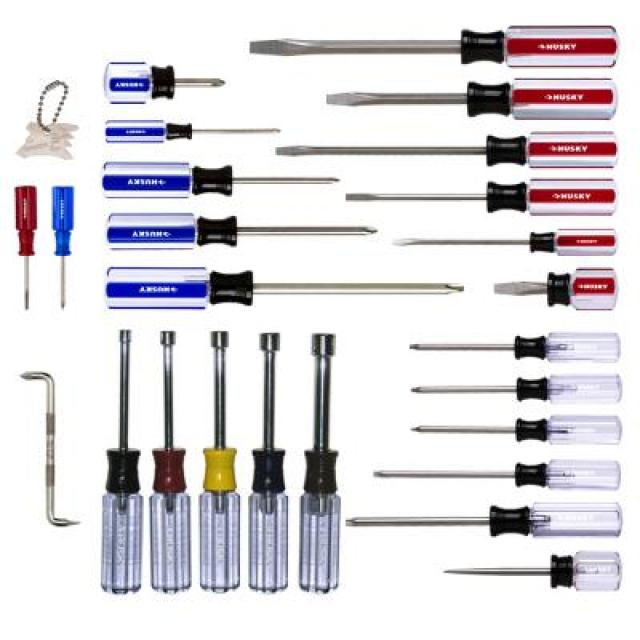screw driver: (231, 0, 634, 72), (92, 254, 480, 320), (334, 489, 640, 562), (271, 121, 636, 174), (310, 69, 628, 128), (294, 328, 362, 602), (361, 443, 640, 502), (244, 318, 300, 609), (100, 202, 388, 257), (389, 312, 629, 375), (94, 150, 354, 208), (144, 320, 197, 597), (344, 166, 630, 216), (387, 401, 640, 456), (389, 362, 640, 417), (194, 318, 240, 606), (439, 550, 640, 614), (103, 312, 147, 596), (387, 211, 640, 259), (94, 94, 292, 149), (468, 260, 626, 314), (97, 51, 241, 107), (44, 177, 80, 330), (7, 180, 40, 321)
